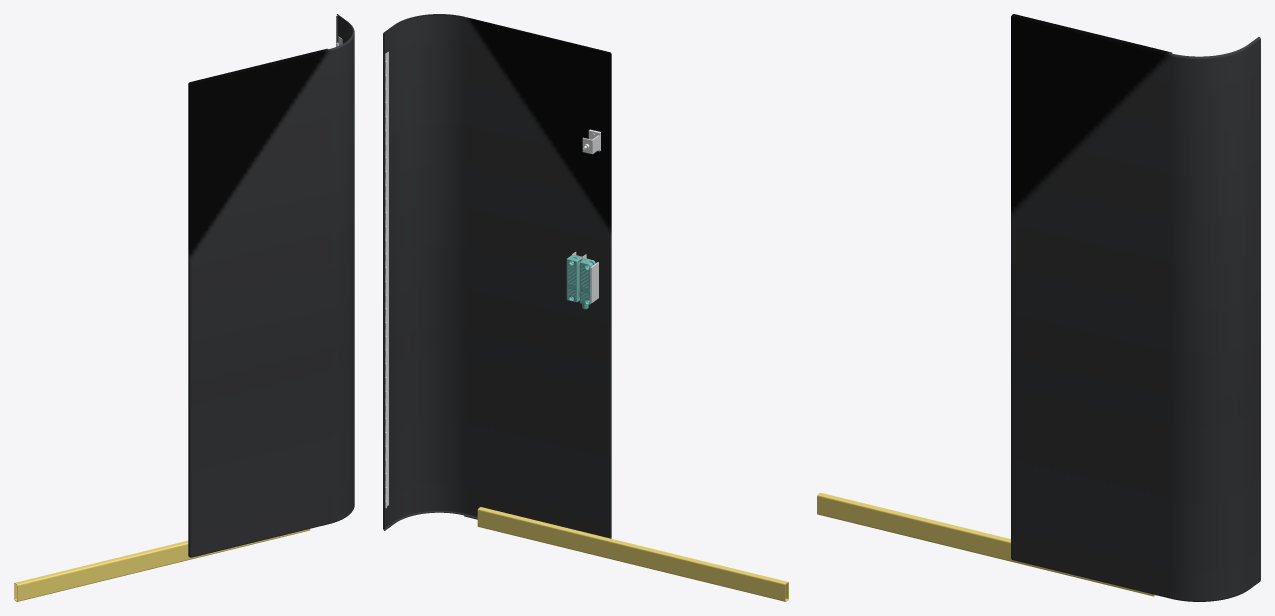
Rendered from E_MEK.glb.
3 views of the same model, side by side, from view 1: azimuth 30°, elevation 25°; view 2: azimuth 150°, elevation 25°; view 3: azimuth 330°, elevation 25° (orthographic). The views are drawn at different scales.
Visible parts, largest first — view 1: E_MEK_PANEL_TEK_PARCA, E_MEK_OTURMA_1110_RHS40x15; view 2: E_MEK_PANEL_TEK_PARCA, E_MEK_OTURMA_1110_RHS40x15, E_MEK_PINET_KAPAK_KANADI, E_MEK_EMNIYET_3SE6310_0BC01, E_MEK_EMNIYET_3SE6315_0BB02_1AP0; view 3: E_MEK_PANEL_TEK_PARCA, E_MEK_OTURMA_1110_RHS40x15.
Boxes of the visible parts, x1,y1,x2,y2 form: E_MEK_PANEL_TEK_PARCA: (188, 14, 354, 557); E_MEK_OTURMA_1110_RHS40x15: (14, 529, 310, 601); E_MEK_PANEL_TEK_PARCA: (383, 14, 611, 538); E_MEK_OTURMA_1110_RHS40x15: (477, 507, 788, 601); E_MEK_PINET_KAPAK_KANADI: (385, 51, 388, 506); E_MEK_EMNIYET_3SE6310_0BC01: (566, 255, 582, 302); E_MEK_EMNIYET_3SE6315_0BB02_1AP0: (579, 258, 595, 309); E_MEK_PANEL_TEK_PARCA: (1011, 14, 1260, 601); E_MEK_OTURMA_1110_RHS40x15: (817, 492, 1155, 596).
Bounding box in the file's own units: 0.8485 × 1.1 × 0.1455.
Materials: 6 (1 with a texture image).
